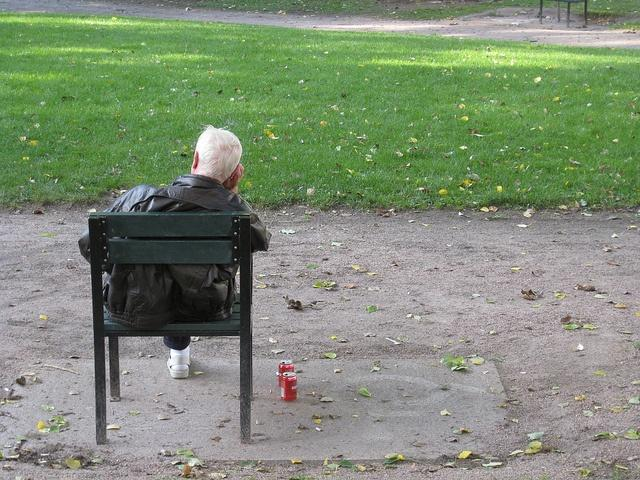Kursi: (88, 210, 253, 446)
